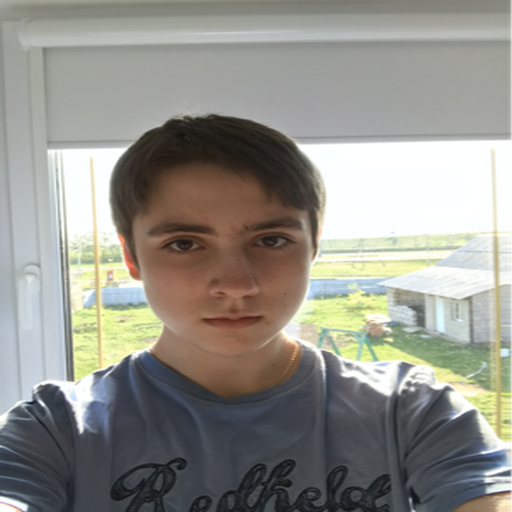person: (138, 206, 312, 354)
